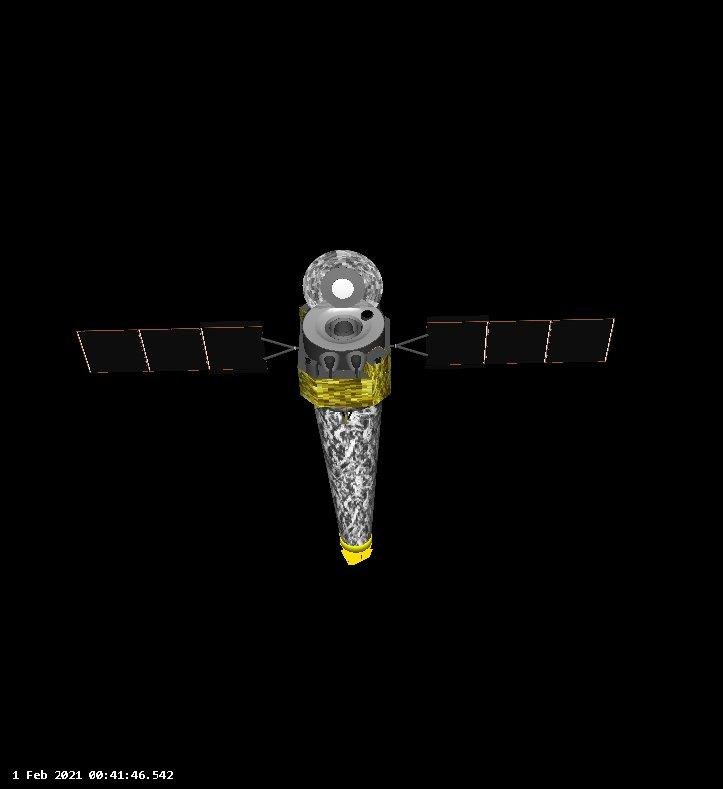antenna: (300, 248, 384, 309)
body: (293, 313, 396, 566)
solar: (423, 310, 616, 367), (74, 325, 275, 376)
thruster: (319, 353, 339, 379), (346, 351, 363, 380), (375, 357, 378, 361), (307, 357, 310, 360), (379, 357, 381, 361), (305, 357, 307, 360)
